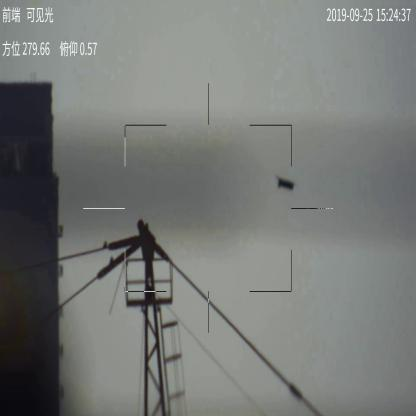uav: (275, 175, 298, 192)
